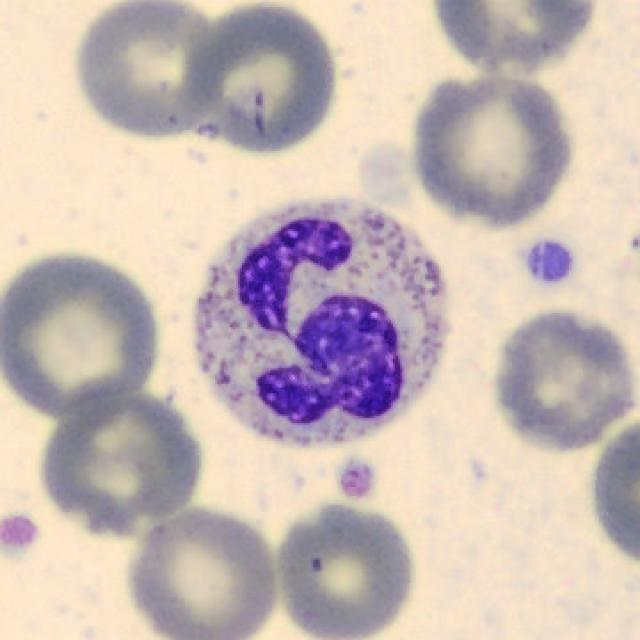Neutrofilo segmentado: (194, 197, 448, 448)
